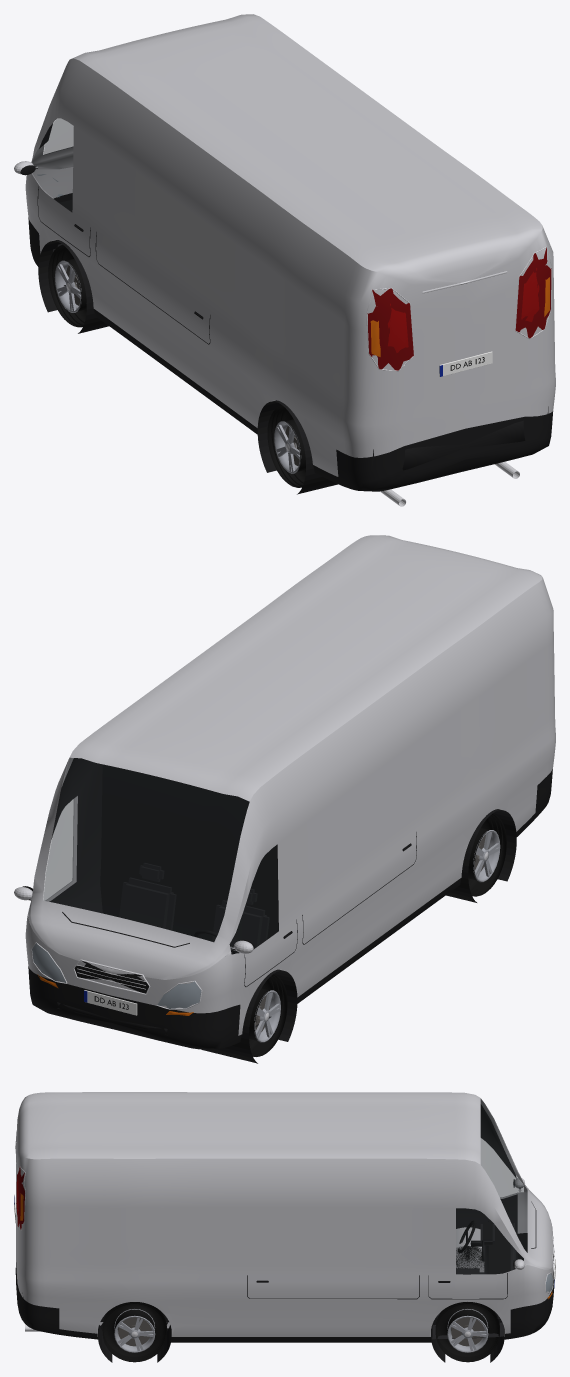
The model's file is van.glb.
3 renders of one model, top to bottom at view 1: azimuth 30°, elevation 25°; view 2: azimuth 150°, elevation 25°; view 3: azimuth 270°, elevation 25°, orthographic. The views are drawn at different scales.
Parts seen in each view (by area): view 1: Body, Lights, Glass, Tire_RL, Tire_FL, Rim_RL, Rim_FL; view 2: Body, Glass, Interior, Lights, Tire_RL, Tire_FL, Rim_RL, Rim_FL; view 3: Body, Glass, Interior, Tire_RR, Tire_FR, Rim_FR, Rim_RR, Lights.
Boxes of the visible parts, x1,y1,x2,y2 form: Body: (14,14,555,506); Lights: (37,174,551,370); Glass: (33,118,73,210); Tire_RL: (267,405,305,487); Tire_FL: (48,244,86,327); Rim_RL: (274,421,301,473); Rim_FL: (55,260,81,312); Body: (14,535,555,1063); Glass: (43,758,277,953); Interior: (49,758,278,1027); Lights: (32,943,201,1015); Tire_RL: (468,814,506,896); Tire_FL: (249,974,287,1056); Rim_RL: (473,830,500,882); Rim_FL: (254,990,280,1042); Body: (14,1092,555,1362); Glass: (456,1100,526,1273); Interior: (432,1104,517,1339); Tire_RR: (102,1302,166,1362); Tire_FR: (435,1302,499,1362); Rim_FR: (447,1309,488,1352); Rim_RR: (114,1309,155,1352); Lights: (16,1166,552,1299).
Bounding box in the file's own units: 2.3 × 2.47 × 5.97.
